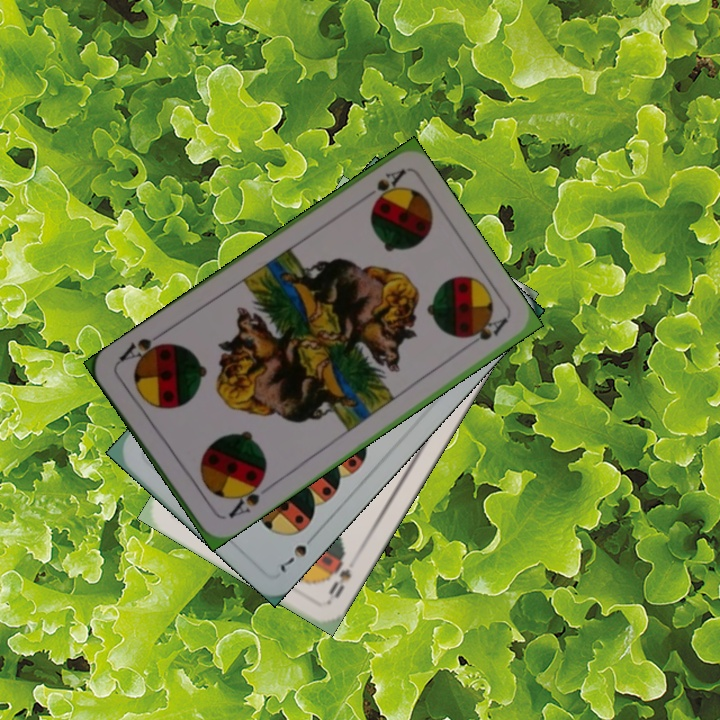S7: (273, 528, 320, 575)
SA: (355, 165, 407, 205), (224, 475, 265, 521)
SO: (324, 548, 354, 604)
